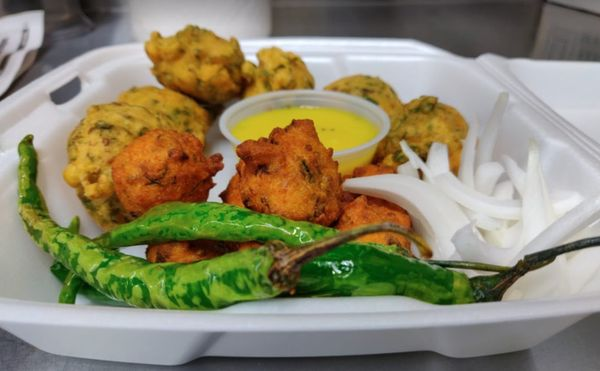soup: (224, 120, 344, 227)
sushi: (219, 89, 388, 179)
